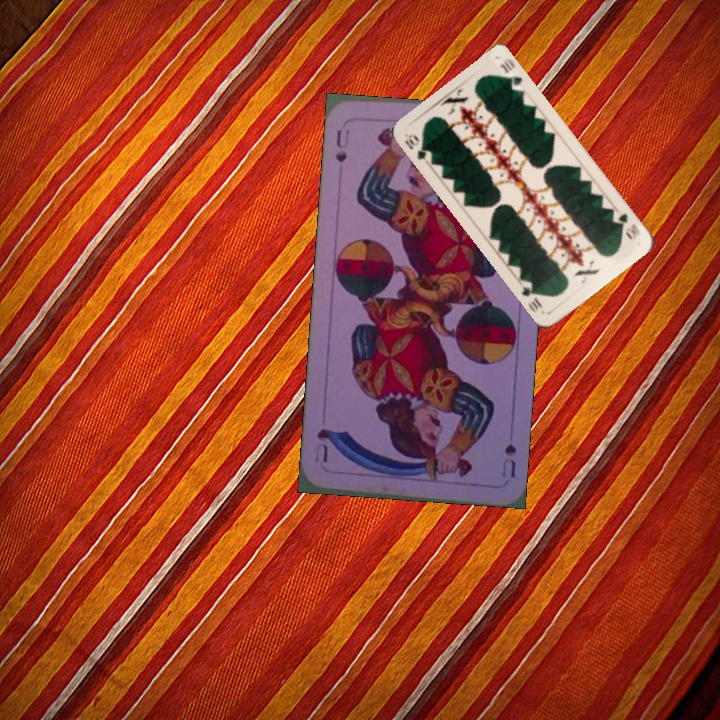G10: (401, 130, 431, 166), (613, 209, 643, 242)
SU: (498, 440, 519, 480), (332, 125, 352, 165)
